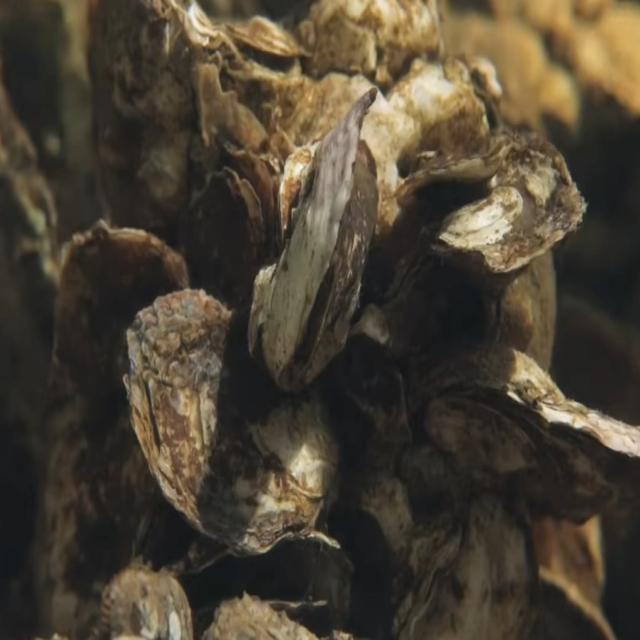Oyster-Closed: (40, 221, 191, 640), (380, 125, 588, 332), (406, 345, 640, 527), (245, 87, 379, 395), (388, 490, 540, 640)
Oyster-Indeterminate: (123, 287, 344, 557), (90, 1, 222, 250), (184, 168, 264, 310)
Oyster-Open: (173, 530, 342, 612)
